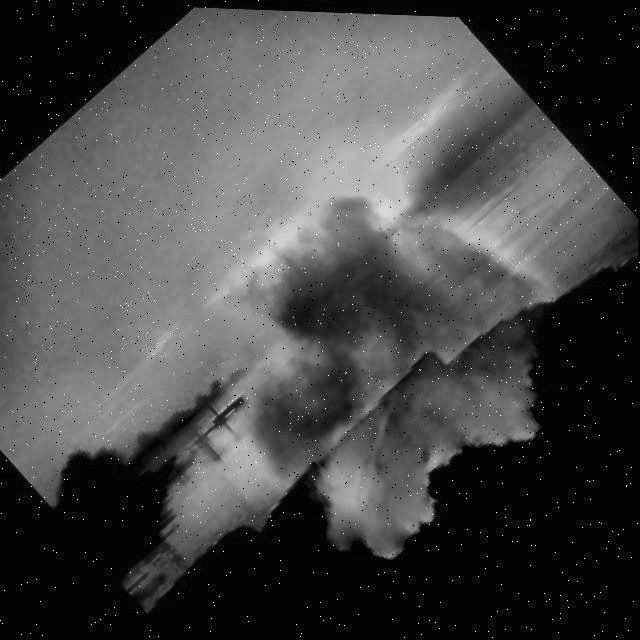Smoke: (94, 65, 638, 640)
